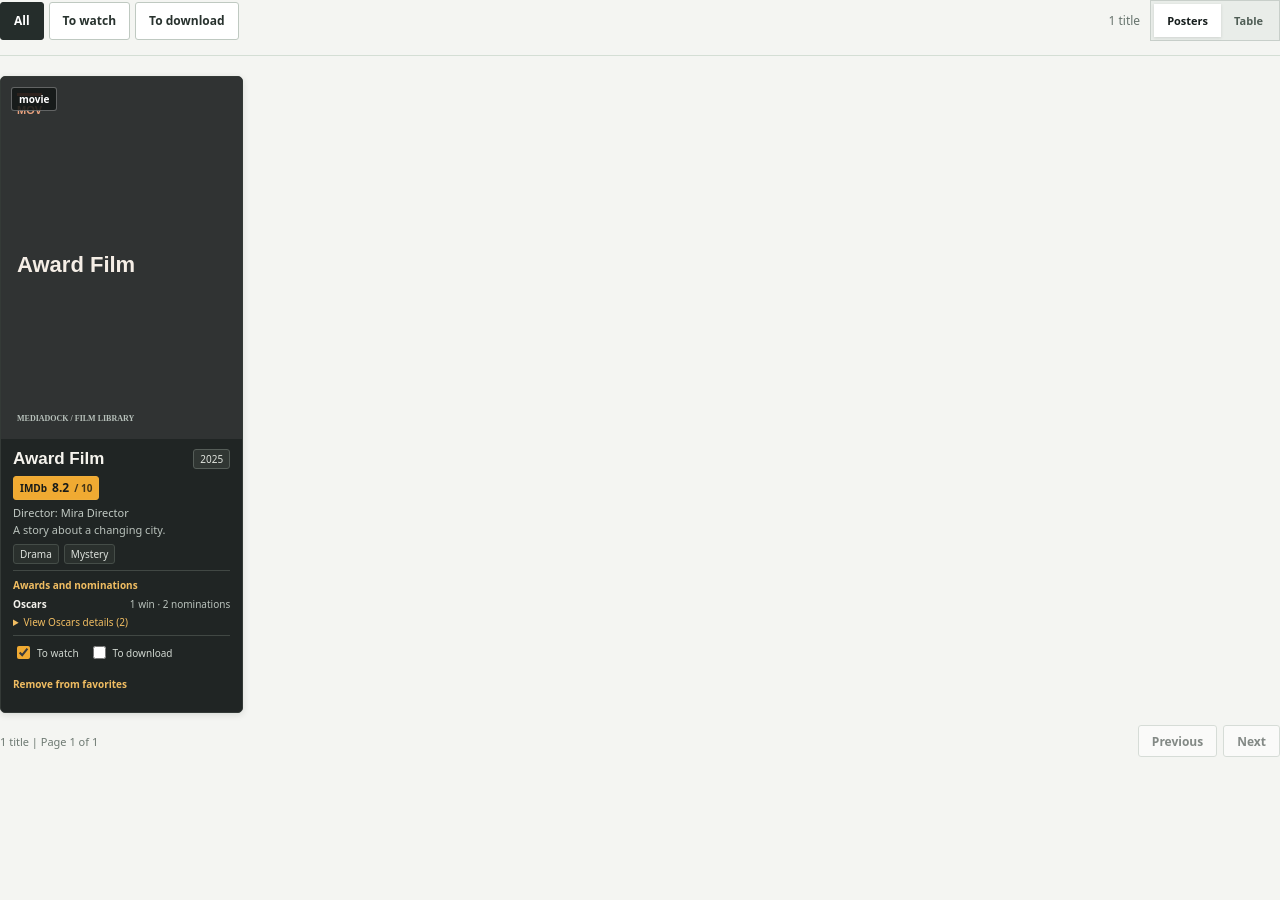
Test: uses the shared poster card and opens details for a favorite without a torrent record
The image size is (1280, 900).
Expected: the text "Director: Mira Director" is shown, [13,504,129,520]
Expected: the text "Drama" is shown, [13,544,59,564]
Click the button with aria-label "View Award Film details".
click(122, 258)  # box [1,77,242,439]
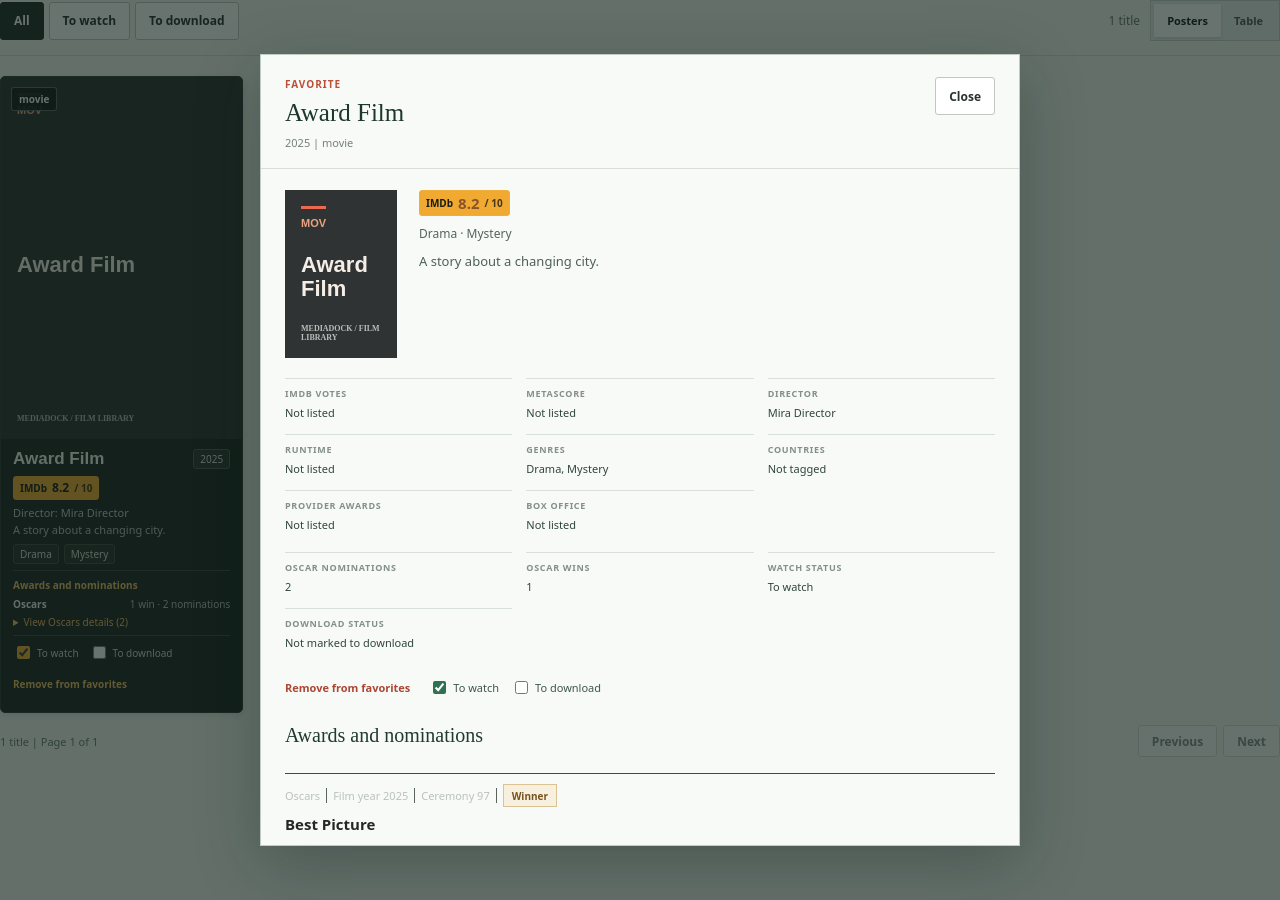
Now the heading "Award Film" is shown, box [285,98,404,128]
Now the text "A story about a changing city." is shown, box [419,252,599,270]
Now the heading "Best Picture" is shown, box [285,814,375,834]
